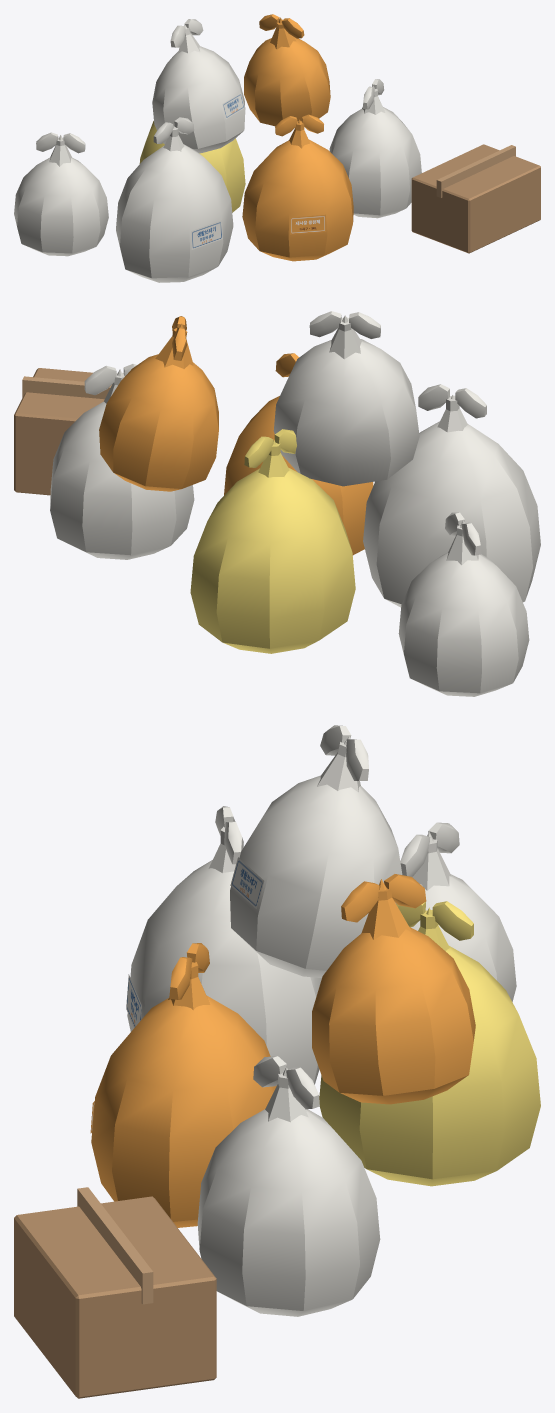
The model's file is SC_Util_Trash_Bags_Pile.gltf.
The picture shows the model from 3 angles, top to bottom: view 1: azimuth 30°, elevation 25°; view 2: azimuth 150°, elevation 25°; view 3: azimuth 270°, elevation 25°; orthographic projection. The views are drawn at different scales.
Visible parts, largest first — view 1: SC_Util_Trash_Bags_Pile; view 2: SC_Util_Trash_Bags_Pile; view 3: SC_Util_Trash_Bags_Pile.
Boxes of the visible parts, x1=… form: SC_Util_Trash_Bags_Pile: x1=14, y1=14, x2=540, y2=282; SC_Util_Trash_Bags_Pile: x1=14, y1=311, x2=540, y2=696; SC_Util_Trash_Bags_Pile: x1=14, y1=725, x2=540, y2=1398.
Bounding box in the file's own units: 1.64 × 0.7839 × 0.9235.
Materials: 2 (2 with a texture image).
